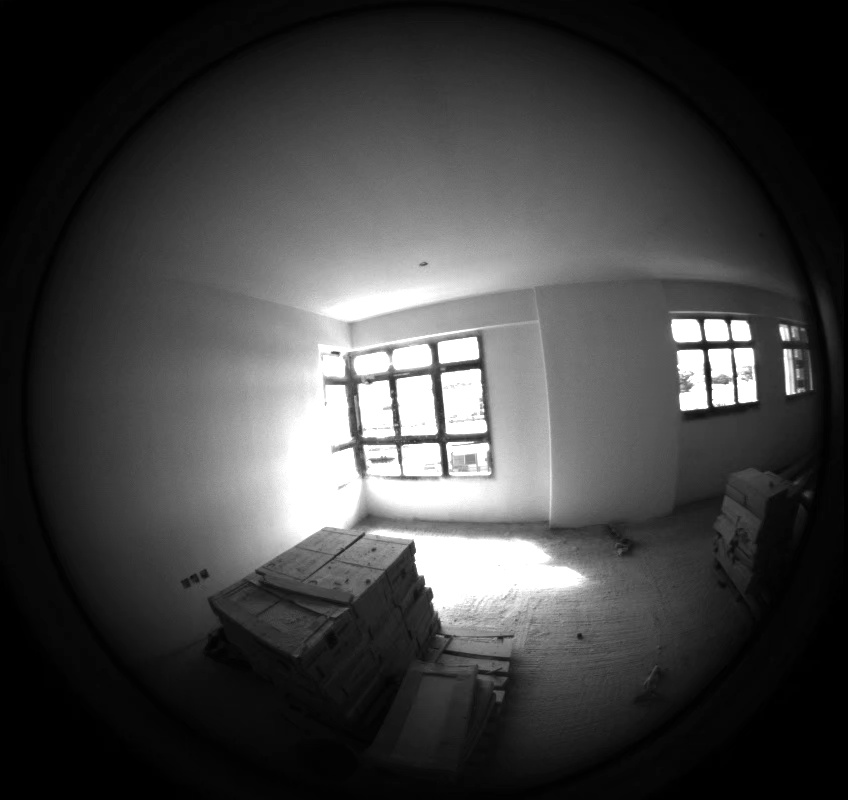Building materials: (87, 149, 800, 617), (148, 187, 512, 776), (209, 200, 439, 727)
Ceiling: (0, 0, 800, 320)
Floor: (359, 287, 753, 785)
Wall: (143, 245, 675, 525)
Windows: (33, 71, 812, 394), (85, 95, 756, 410), (168, 147, 489, 476)
